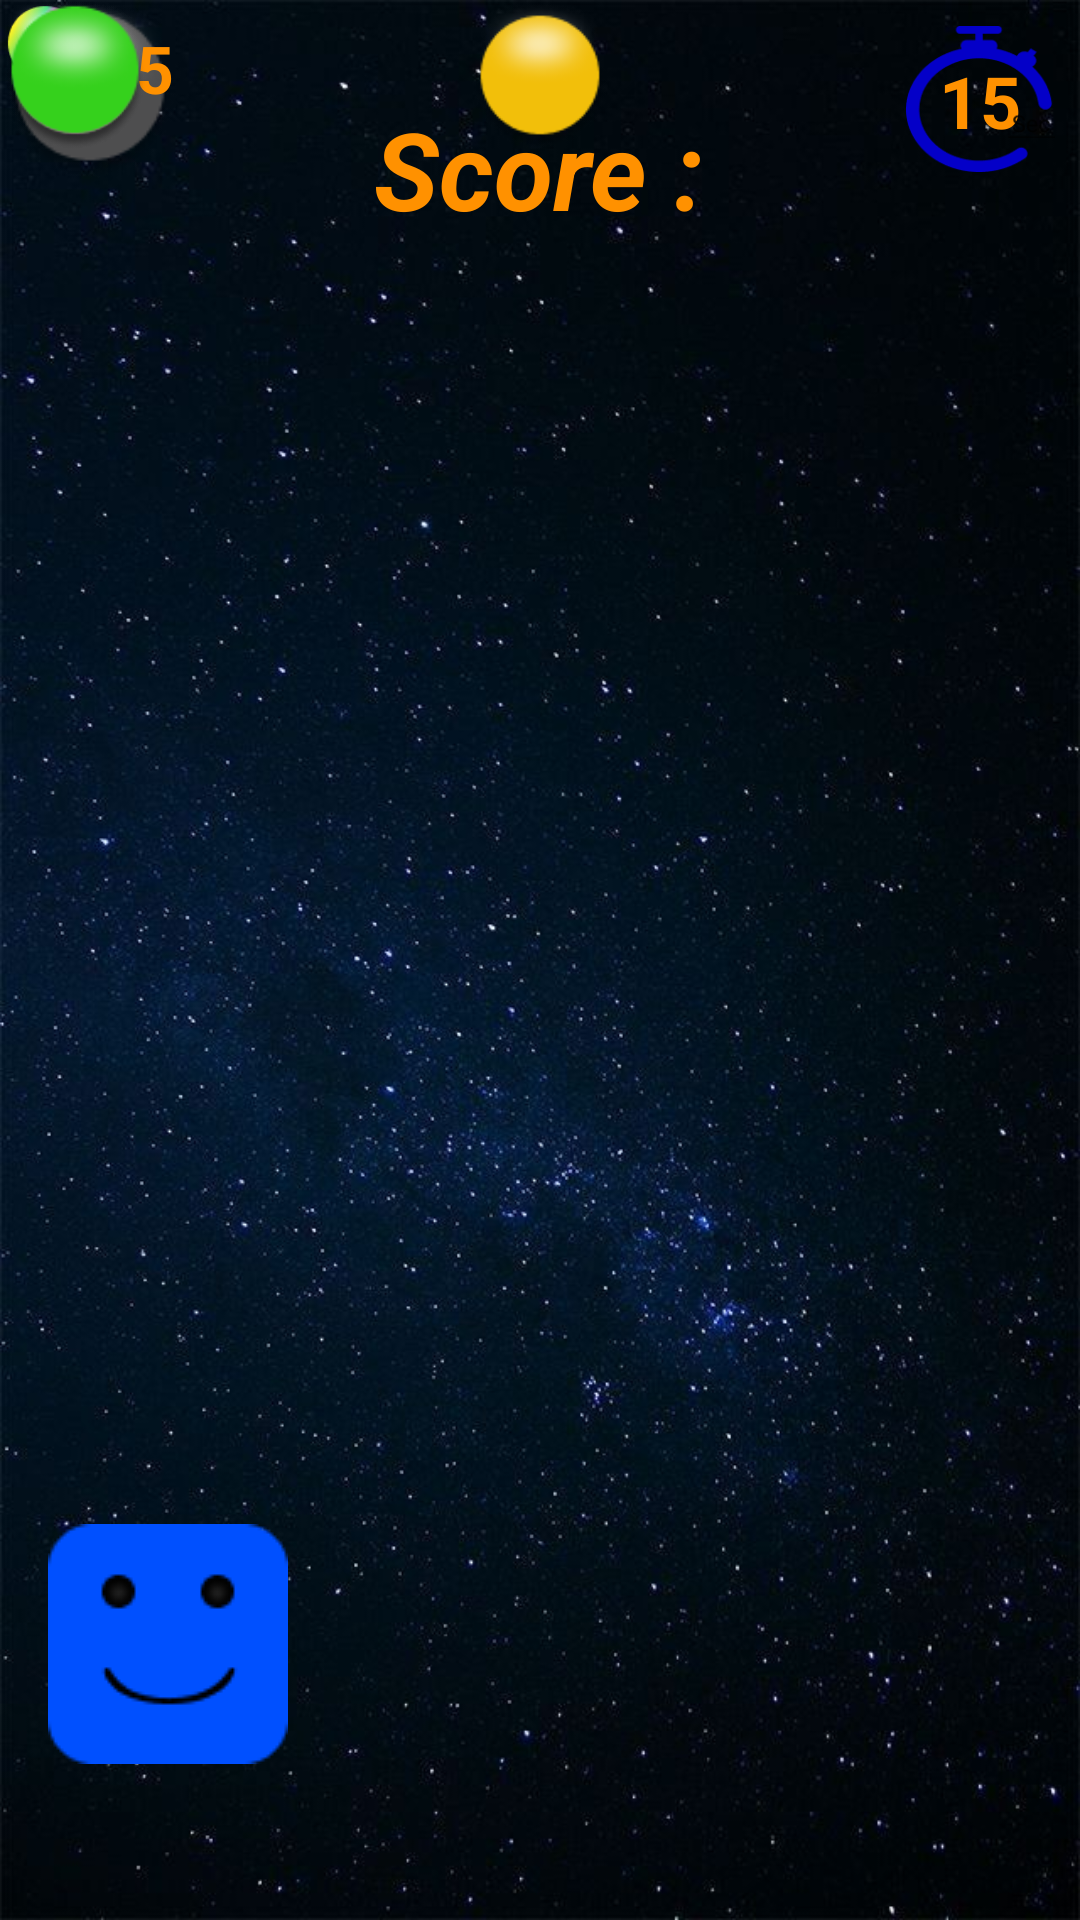

Named icons in this screenshot (1080×1920) and their centers, [x,y]:
timer: [979,99]
